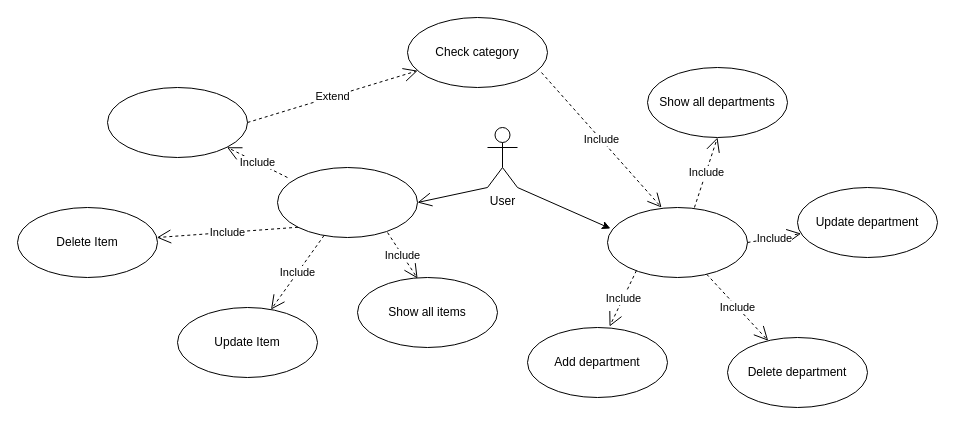
Image size: 955x425. Some labels were removed from this diagram. Here are the shapes that lost their labels. From the top down, the centre of each, then its label:
the point at 177,122: Add item
the point at 347,202: Work with items
the point at 677,242: Work with ShopDepartments
